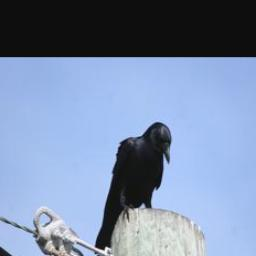Crow: (95, 121, 173, 256)
